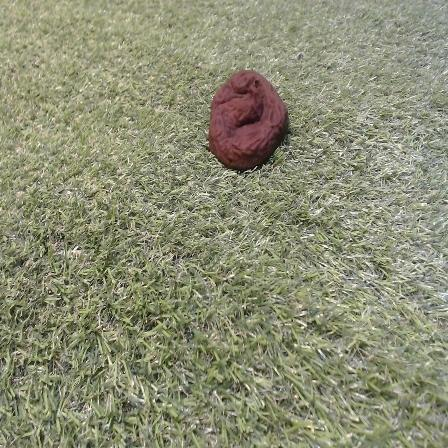dog-poop: (209, 65, 288, 169)
